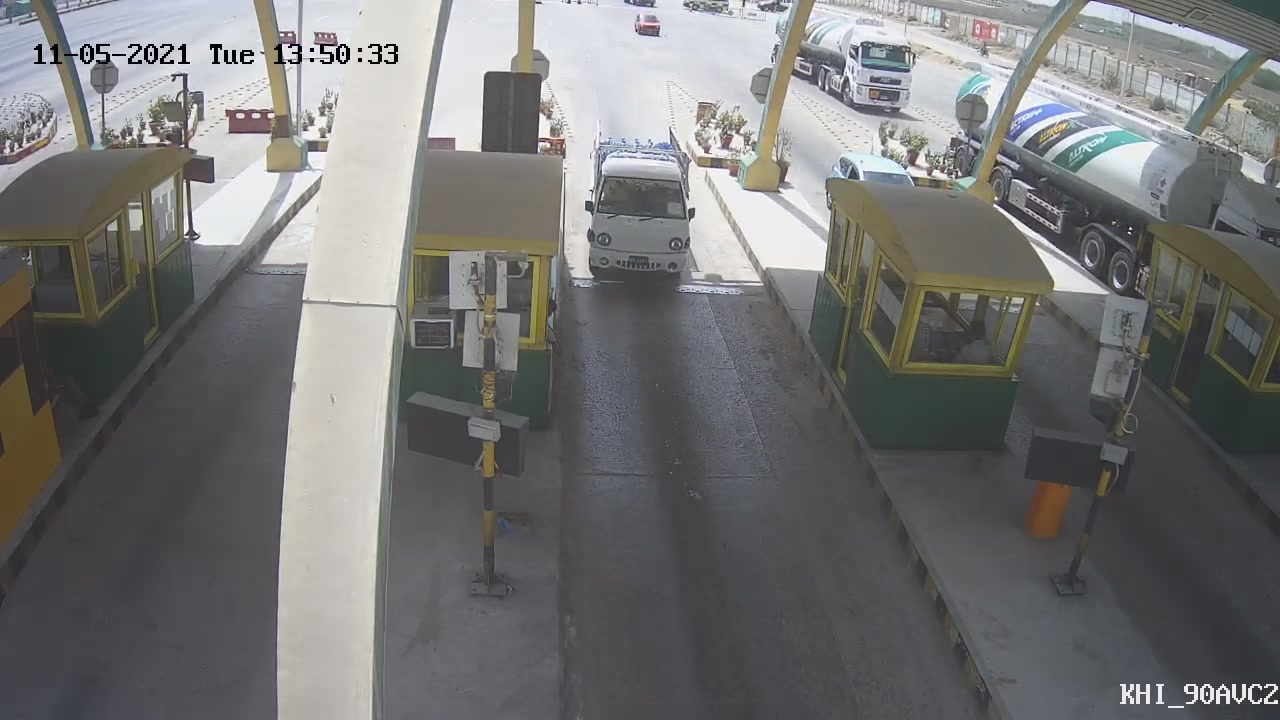F2: (584, 114, 696, 283)
